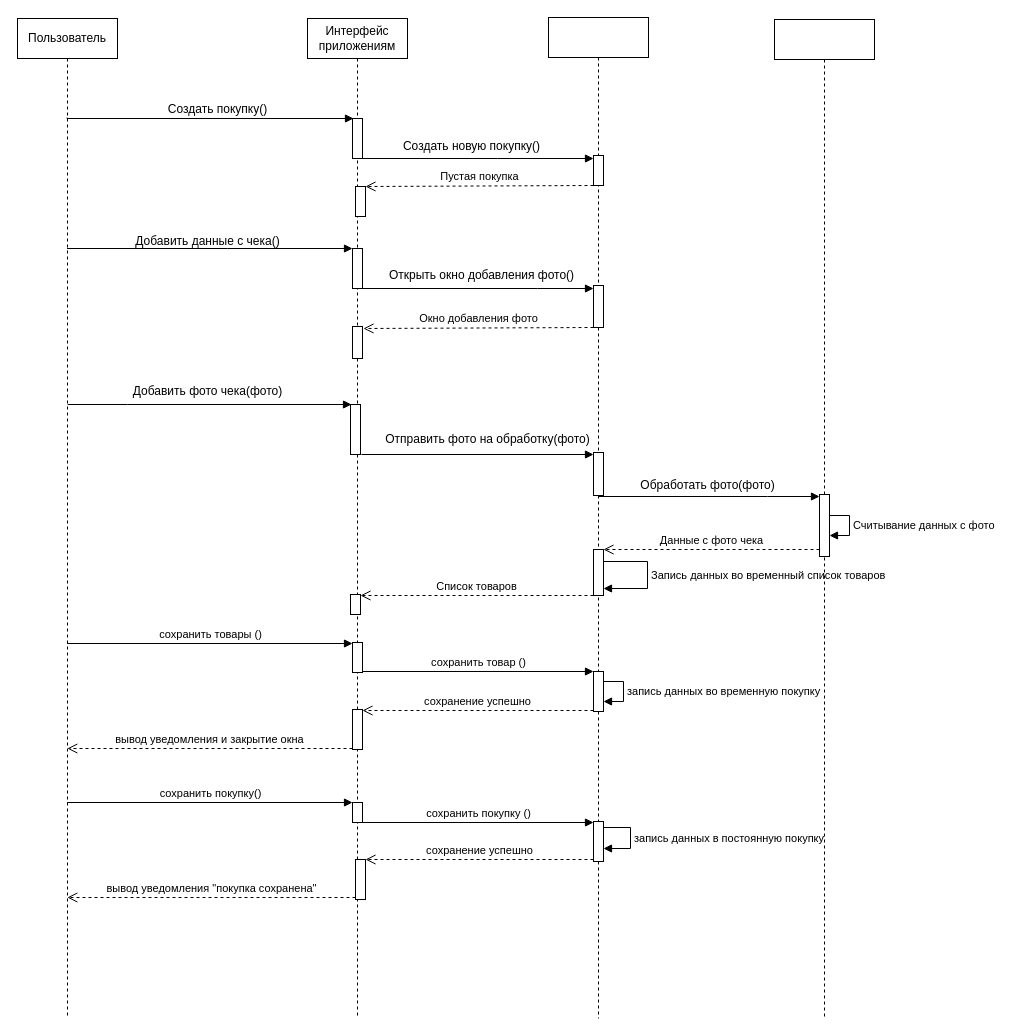
Image size: 1013x1036. Some labels were removed from this diagram. Here are the shapes that lost their labels. From the top down, the centre of each, then its label:
At point 598,517: "Приложение".
At point 824,518: "Система".
